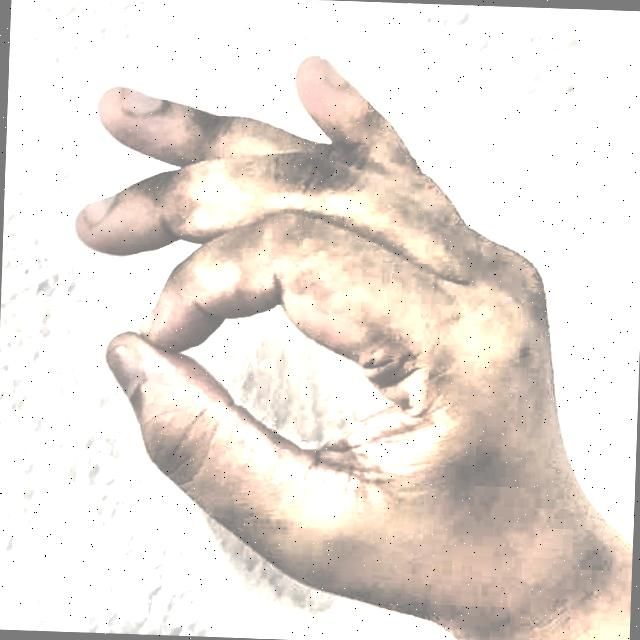Yo: (46, 19, 612, 640)
